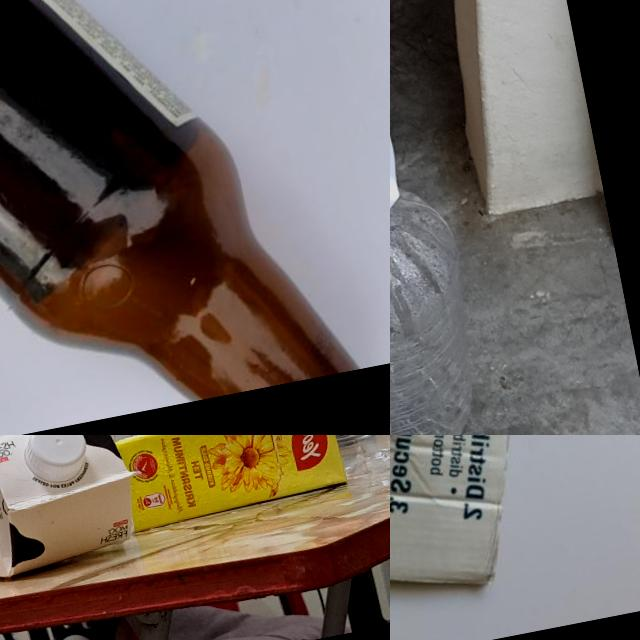caixinha: (0, 435, 155, 589), (112, 435, 348, 531)
garrafa de vidro: (0, 0, 364, 435)
garrafa plástica: (390, 168, 501, 435)
papelão: (390, 435, 576, 636)
tampa plástica: (21, 435, 93, 487)
